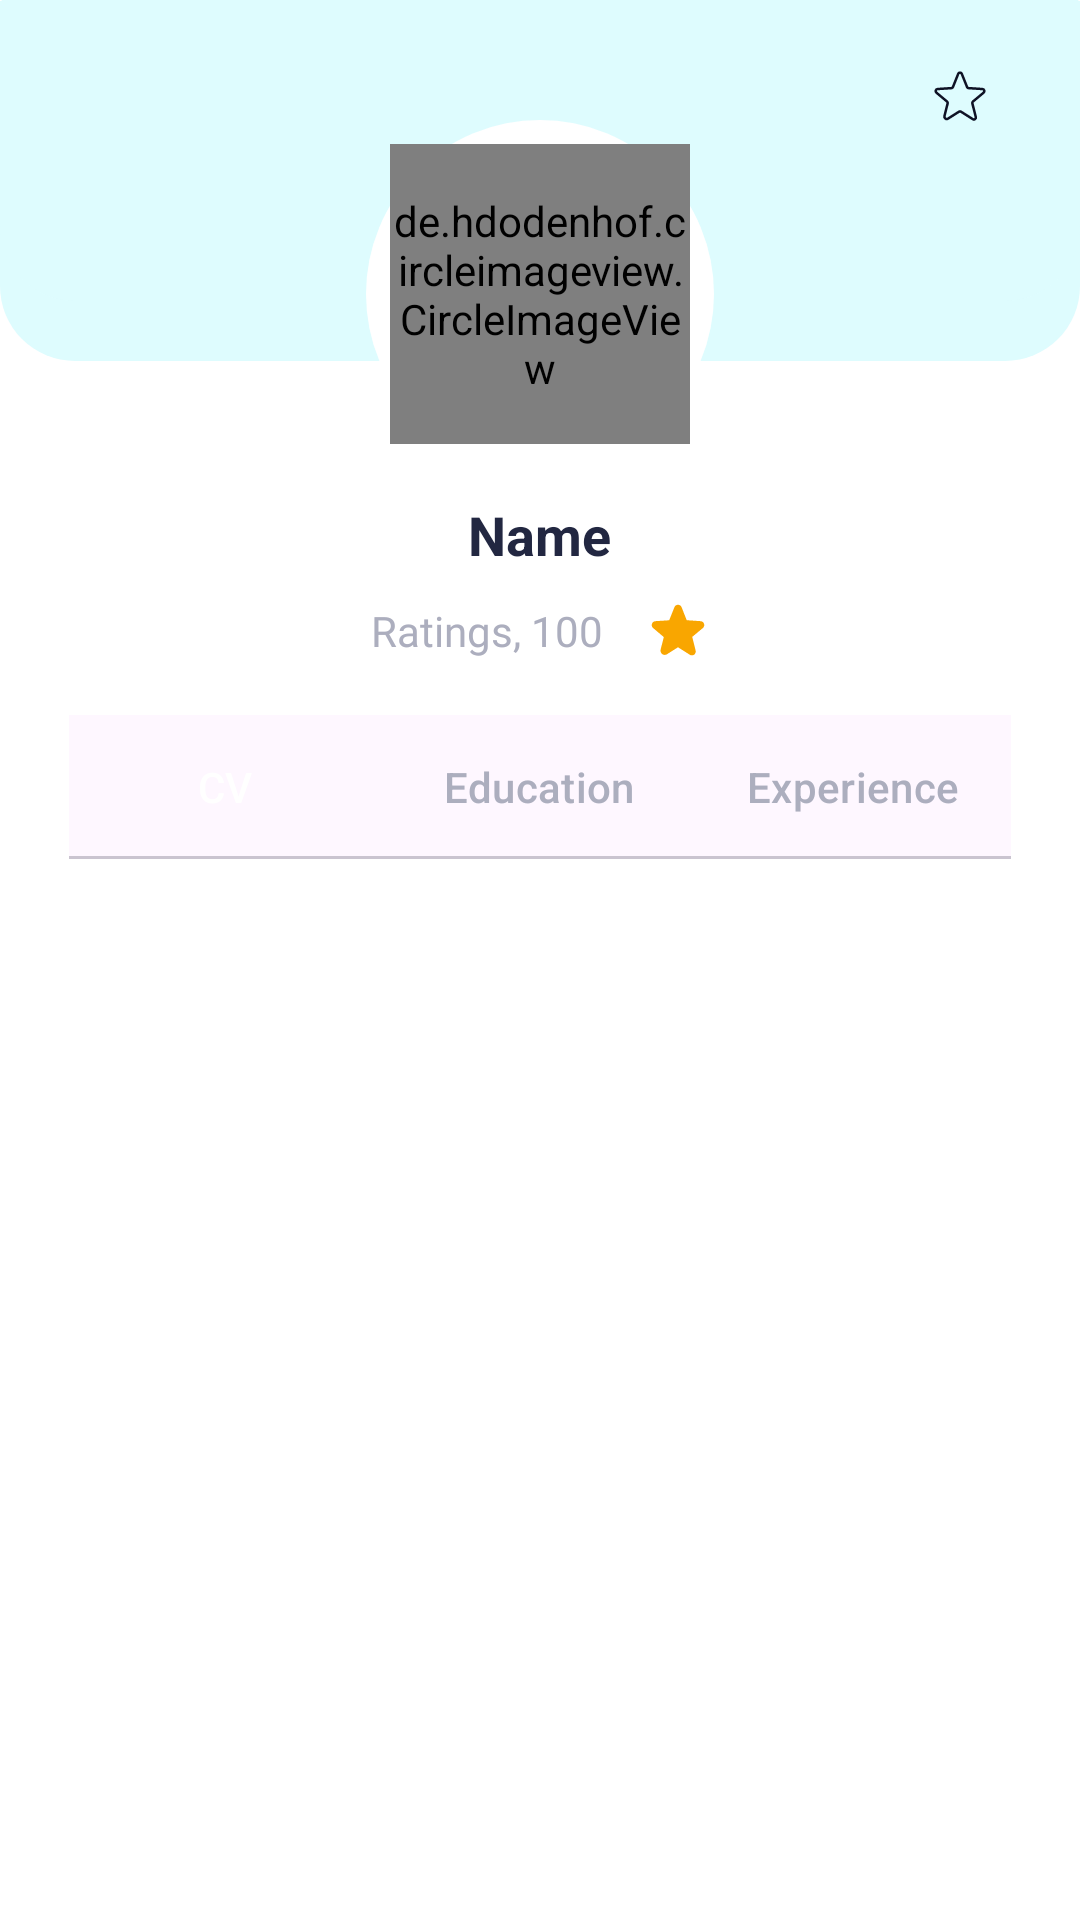

Icons on this 1080x1920 Android screen, each with its box as [x1, y1, x2, y2]:
star: [934, 71, 986, 121], [651, 604, 705, 656]
